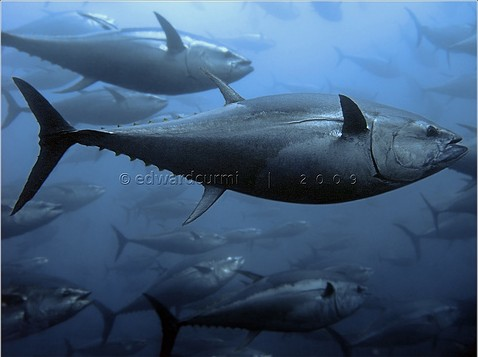Bluefina Tuna: (17, 70, 472, 206), (4, 12, 255, 97), (142, 269, 372, 352)
